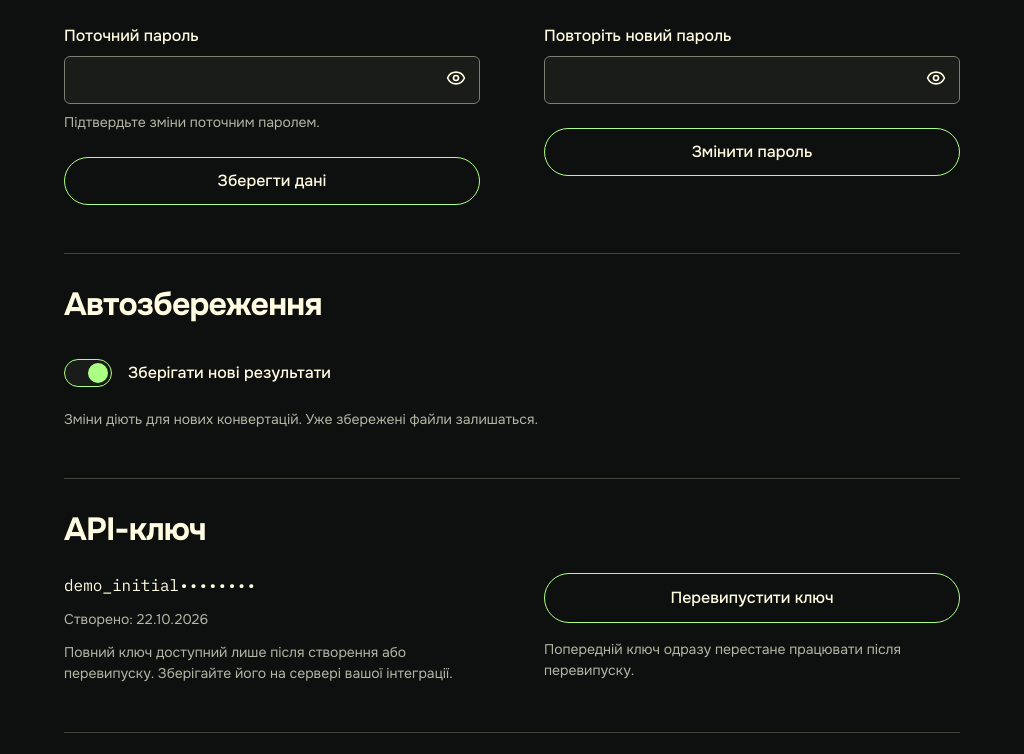
keeps the confirmed auto-save value when its update fails
(page scrolled)
Click the switch at (88, 373), box [64, 359, 112, 387]
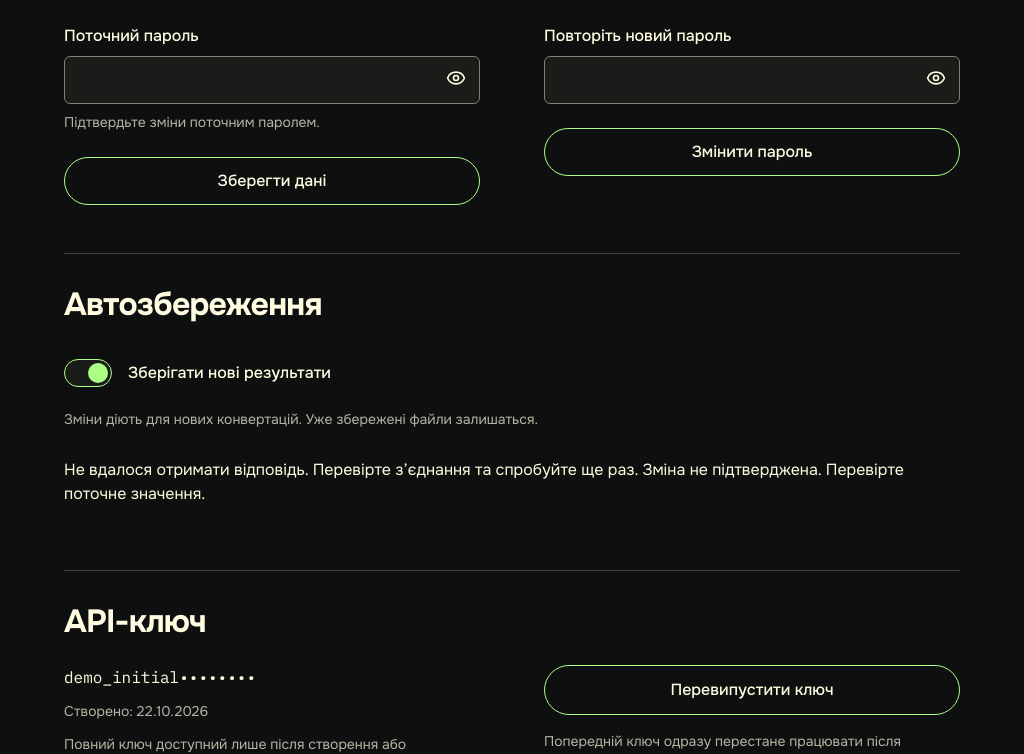
Result: the text "Зміна не підтверджена" is shown at [64, 459, 904, 504]
